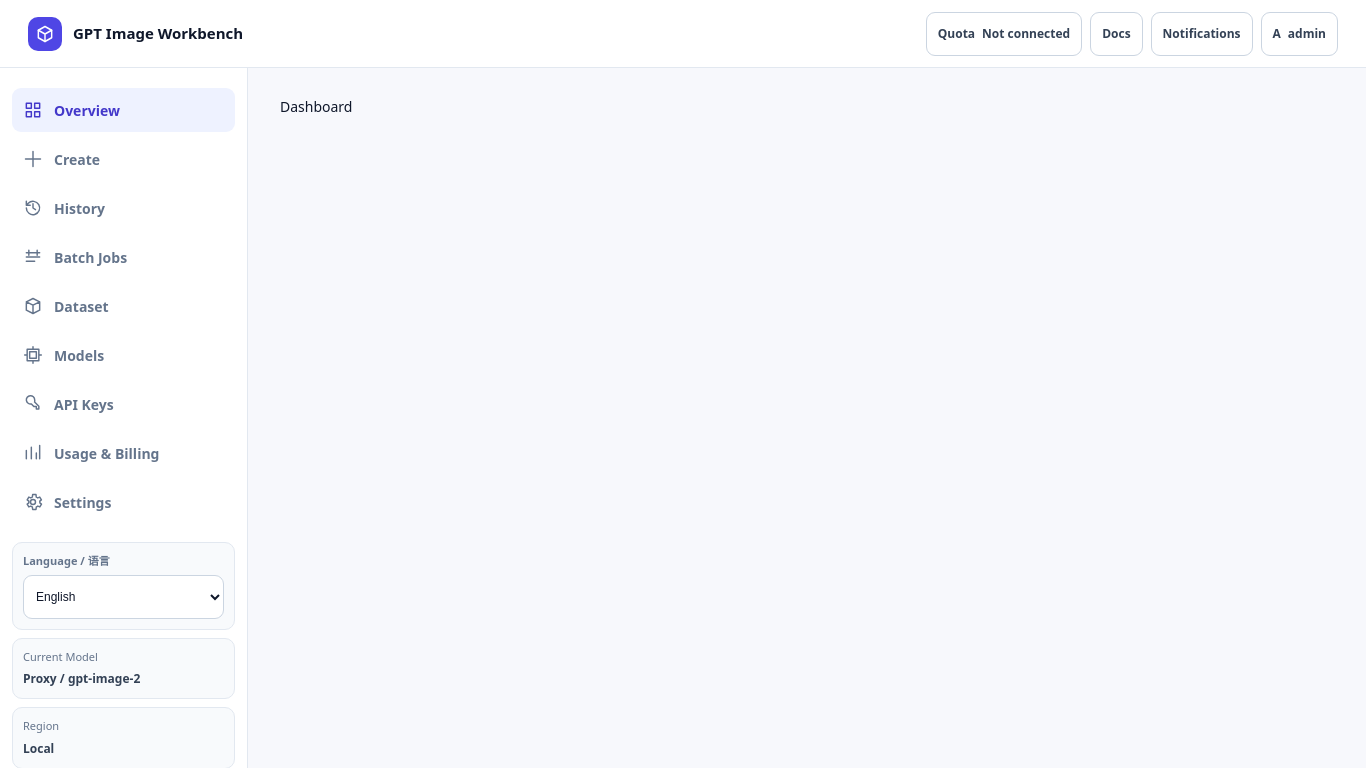
Test: AppShell › opens truthful utility panels without invented values
The image size is (1366, 768).
Step 1. Click the button "Docs" → (1116, 34), box x1=1090 y1=12 x2=1143 y2=56
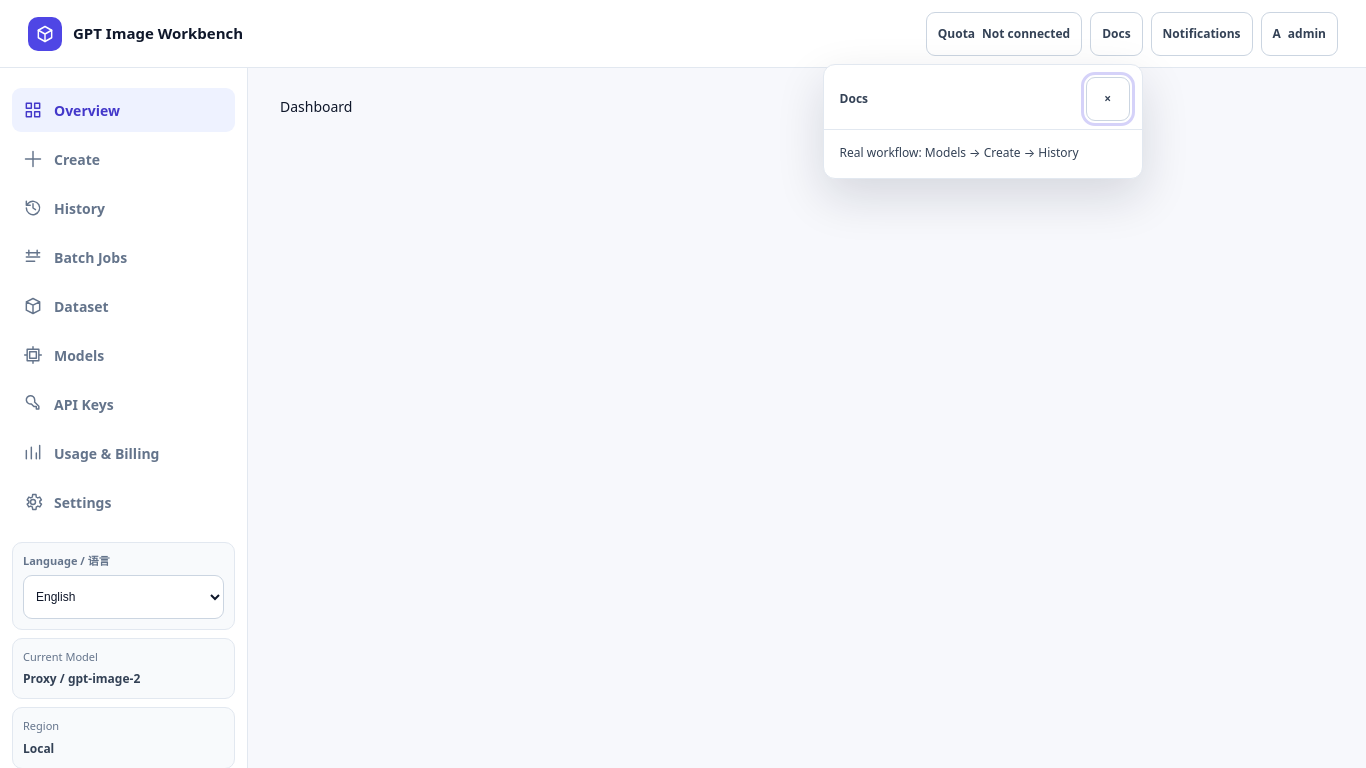
Expected: the dialog "Docs" shows "Models → Create → History", x1=840 y1=144 x2=1079 y2=160
Step 2. Click the button "Notifications" → (1202, 34), box x1=1151 y1=12 x2=1252 y2=56
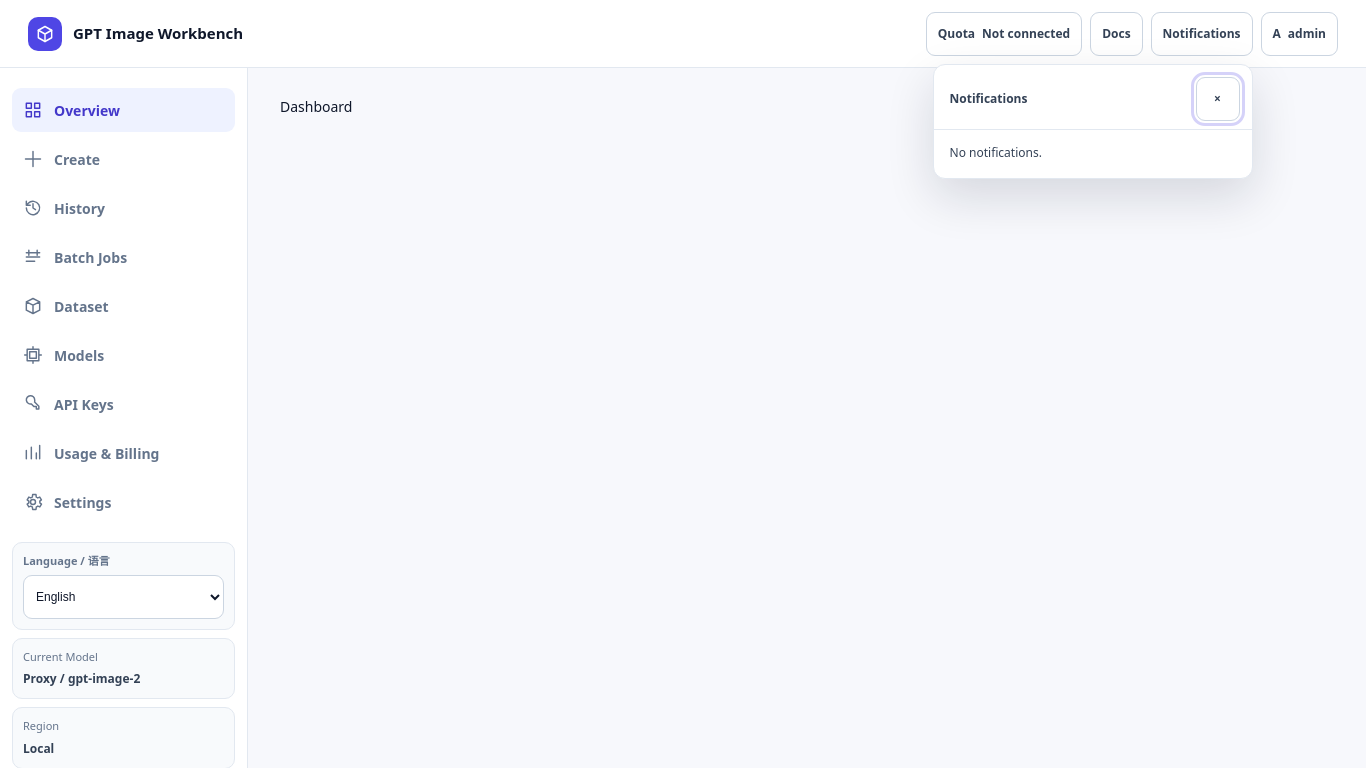
Expected: the dialog "Notifications" shows "No notifications", x1=950 y1=144 x2=1042 y2=160
Step 3. Click the button with aria-label "Account: admin" → (1299, 34), box x1=1260 y1=12 x2=1338 y2=56
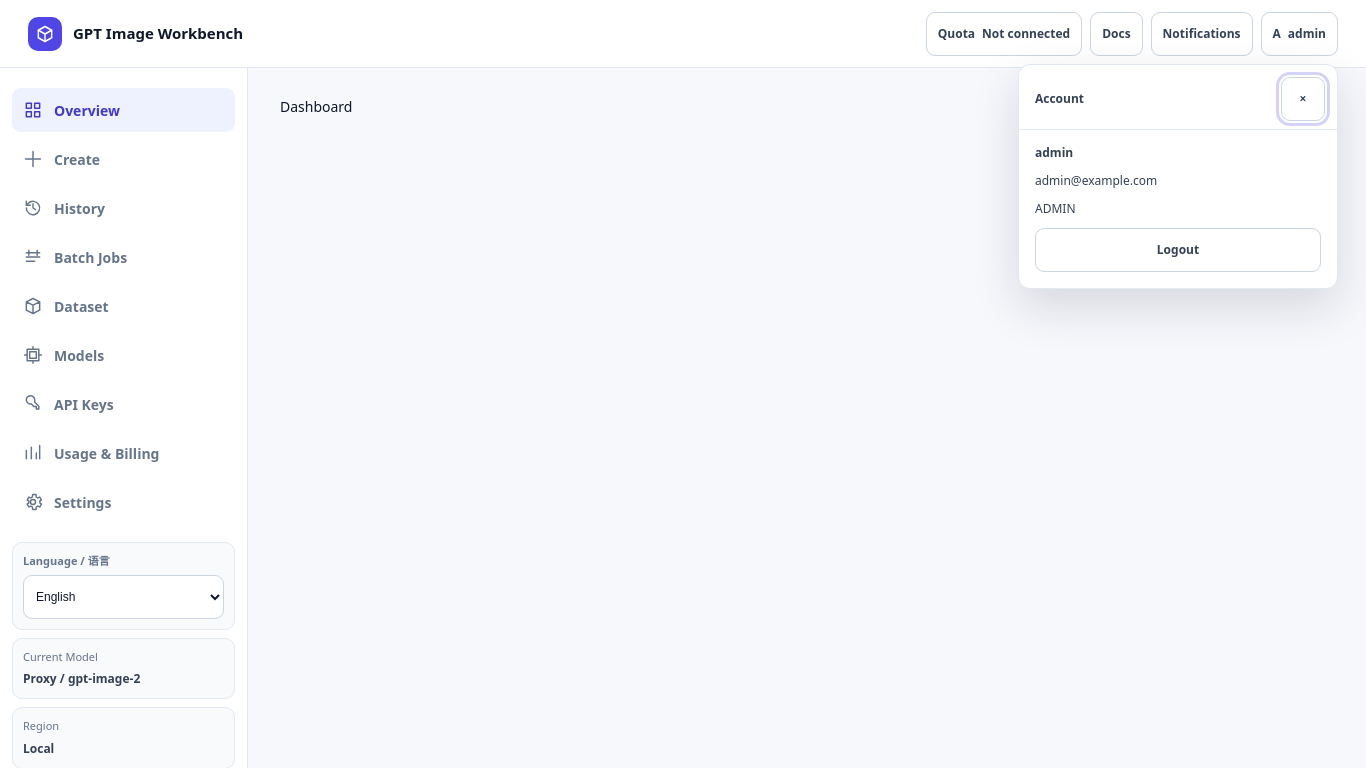
Expected: the dialog "Account" shows "admin@example.com", x1=1035 y1=172 x2=1157 y2=188
Expected: the dialog "Account" shows "admin", x1=1035 y1=144 x2=1073 y2=160
Expected: the button "Logout" is shown, x1=1035 y1=228 x2=1321 y2=272
